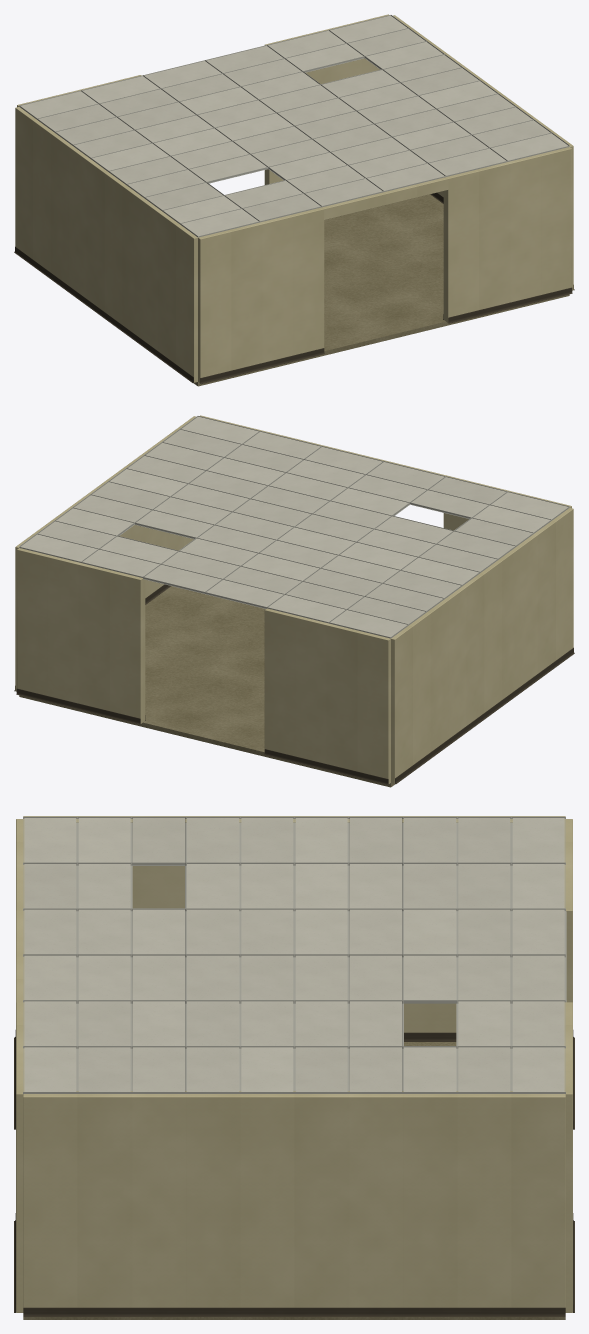
Rendered from short_arrival.gltf.
3 views of the same model, one above another, from view 1: azimuth 30°, elevation 25°; view 2: azimuth 150°, elevation 25°; view 3: azimuth 270°, elevation 25° (orthographic). The views are drawn at different scales.
Parts seen in each view (by area): view 1: short_arrival; view 2: short_arrival; view 3: short_arrival.
Part boxes in pixels (box(x1,y1,x2,y2)): short_arrival: box(14, 14, 574, 386); short_arrival: box(14, 415, 574, 787); short_arrival: box(14, 816, 574, 1319).
Bounding box in the file's own units: 7.53 × 2.83 × 6.31.
Materials: 5 (5 with a texture image).
